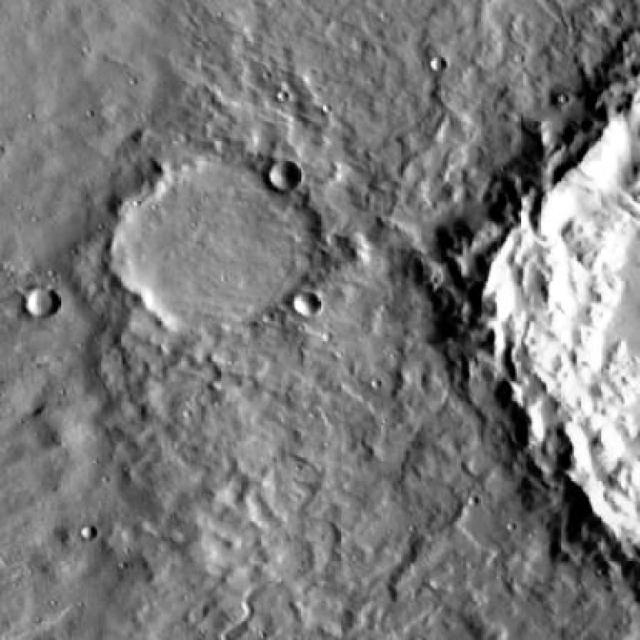crater: (478, 91, 640, 606), (107, 146, 316, 331), (25, 286, 61, 316), (269, 164, 302, 191), (292, 294, 318, 317)
